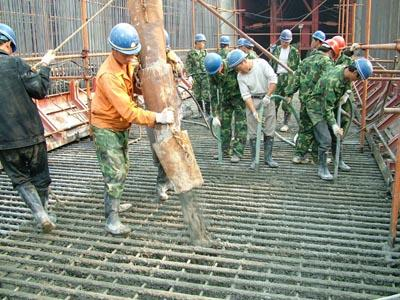boots: (104, 222, 131, 235), (318, 166, 333, 180), (40, 220, 55, 232), (338, 159, 351, 171), (292, 155, 309, 164), (263, 160, 279, 168), (230, 153, 240, 162), (248, 161, 257, 170), (280, 124, 289, 131)
gloves: (154, 110, 175, 125), (41, 49, 55, 66), (31, 61, 49, 73), (332, 124, 344, 138), (282, 96, 292, 111), (262, 95, 271, 107), (252, 111, 261, 123), (212, 116, 221, 127), (284, 96, 292, 105)
hard-hat: (108, 22, 142, 55), (0, 22, 17, 50), (226, 49, 248, 69), (353, 58, 373, 79), (322, 38, 341, 58), (204, 52, 221, 74), (332, 35, 346, 50), (312, 29, 326, 41), (280, 29, 292, 41)
person: (89, 21, 175, 234), (0, 23, 56, 233), (307, 57, 373, 181), (225, 49, 279, 169), (204, 51, 246, 162), (185, 33, 223, 127), (268, 28, 302, 131)
ppe-suit: (88, 54, 159, 234), (1, 48, 55, 231)
